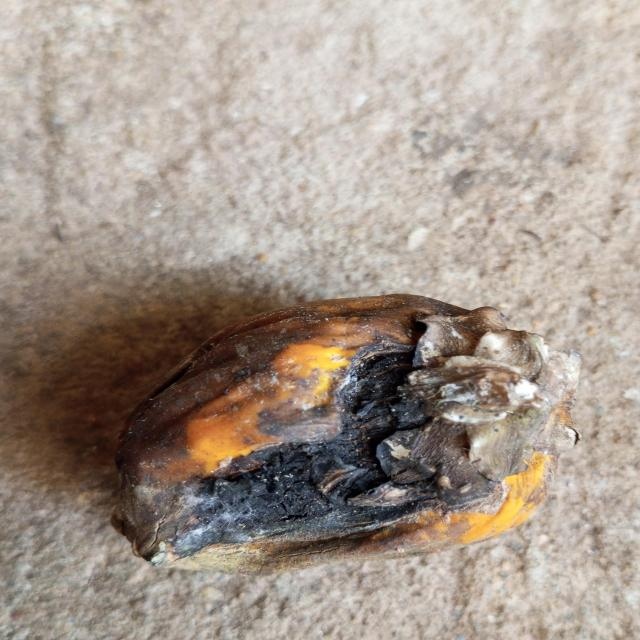damaged: (111, 295, 579, 572)
